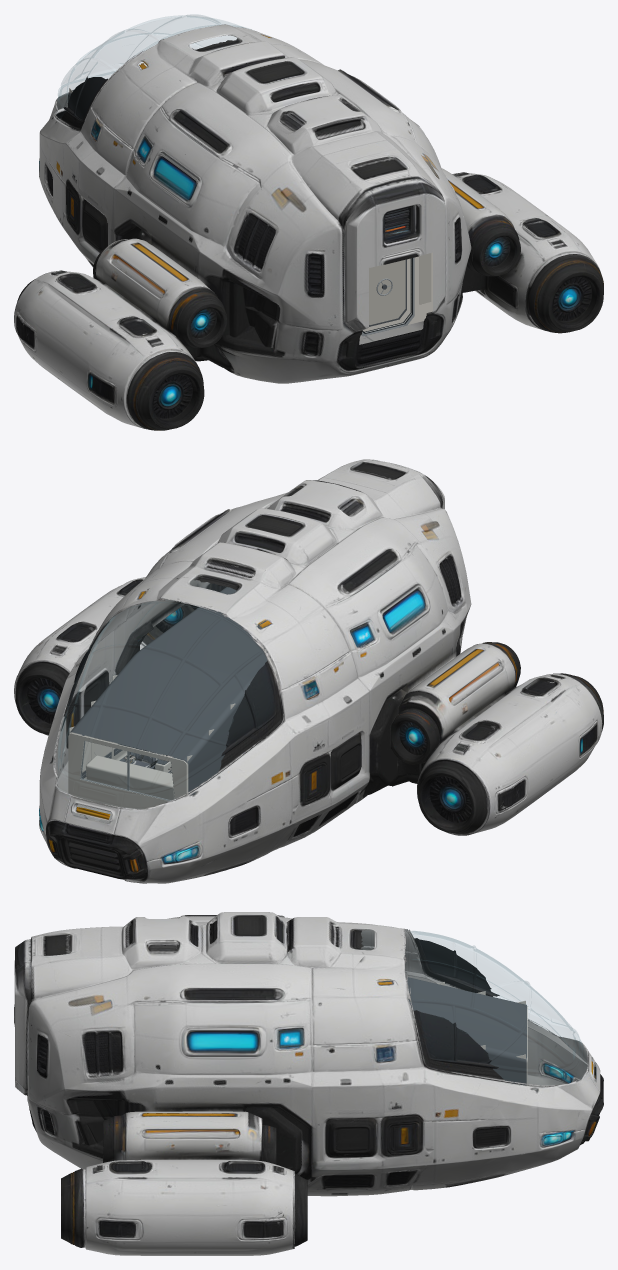
File: 整舱统一母版-v6.glb
3 views of the same model, one above another, from view 1: azimuth 30°, elevation 25°; view 2: azimuth 150°, elevation 25°; view 3: azimuth 270°, elevation 25° (orthographic). The views are drawn at different scales.
Parts seen in each view (by area): view 1: Exterior_Hull_90_0, Canopy_Glass_91_0, airlock-outer-door_9, Door_Outer-bulkhead_0, Door_Outer-bulkhead_9; view 2: Exterior_Hull_90_0, cockpit-ceiling_1, rear-cabin-ceiling_1, front-window-frame_0, main-console_0, cockpit-wall-left_1, Canopy_Glass_91_0; view 3: Exterior_Hull_90_0, cockpit-ceiling_1, Canopy_Glass_91_0, cockpit-wall-right_1.
Boxes of the visible parts, left/top/right/bottom form: Exterior_Hull_90_0: left=14, top=24, right=603, bottom=430; Canopy_Glass_91_0: left=57, top=14, right=250, bottom=110; airlock-outer-door_9: left=369, top=259, right=405, bottom=324; Door_Outer-bulkhead_0: left=360, top=252, right=432, bottom=336; Door_Outer-bulkhead_9: left=419, top=253, right=431, bottom=304; Exterior_Hull_90_0: left=14, top=459, right=603, bottom=883; cockpit-ceiling_1: left=70, top=654, right=250, bottom=761; rear-cabin-ceiling_1: left=135, top=587, right=271, bottom=682; front-window-frame_0: left=68, top=733, right=187, bottom=809; main-console_0: left=86, top=755, right=174, bottom=800; cockpit-wall-left_1: left=187, top=692, right=244, bottom=795; Canopy_Glass_91_0: left=57, top=585, right=245, bottom=781; Exterior_Hull_90_0: left=14, top=912, right=603, bottom=1255; cockpit-ceiling_1: left=405, top=977, right=526, bottom=1058; Canopy_Glass_91_0: left=363, top=930, right=596, bottom=1079; cockpit-wall-right_1: left=485, top=1049, right=526, bottom=1085.
Bounding box in the file's own units: 14.46 × 6.95 × 16.
Materials: 47 (14 with a texture image).
